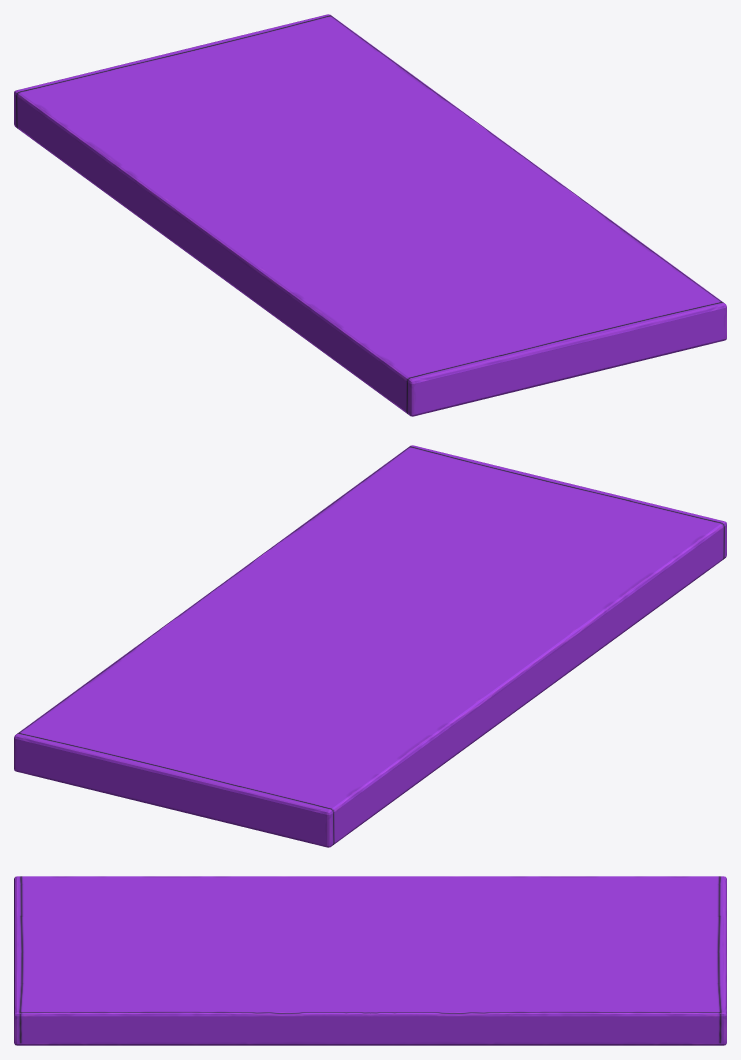
Rendered from PLF0110117.fbx.
3 views of the same model, one above another, from view 1: azimuth 30°, elevation 25°; view 2: azimuth 150°, elevation 25°; view 3: azimuth 270°, elevation 25° (orthographic). The views are drawn at different scales.
Visible parts, largest first — view 1: smPLF0110117; view 2: smPLF0110117; view 3: smPLF0110117.
Part boxes in pixels (x1,y1,x2,y2): smPLF0110117: (14, 14, 726, 416); smPLF0110117: (14, 445, 726, 847); smPLF0110117: (14, 876, 726, 1045).
Bounding box in the file's own units: 363 × 40.28 × 789.
1 material, 1 textured.
